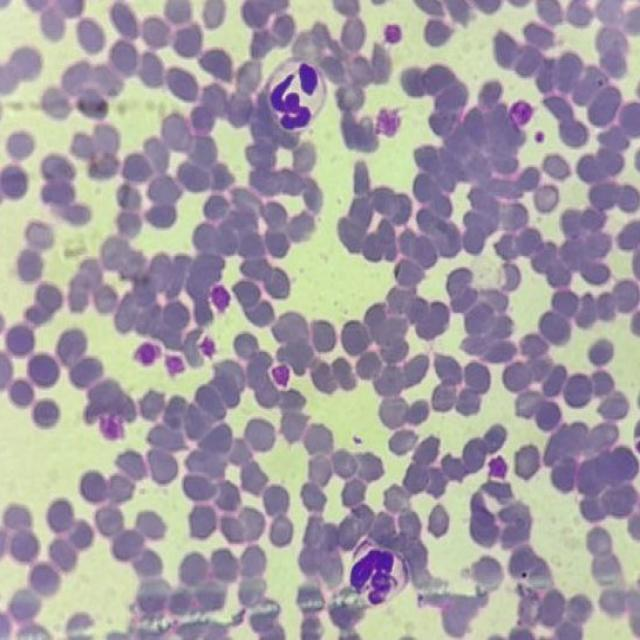Neutrofilo: (264, 52, 329, 134), (345, 543, 411, 611)
